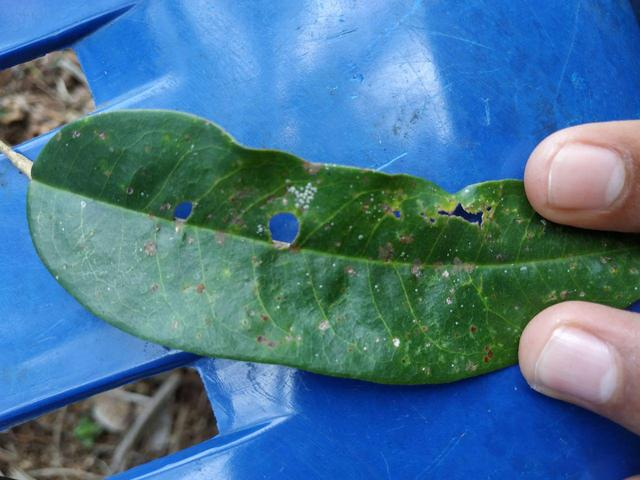blight spot: (377, 192, 502, 242), (252, 199, 318, 269), (162, 183, 201, 240)
